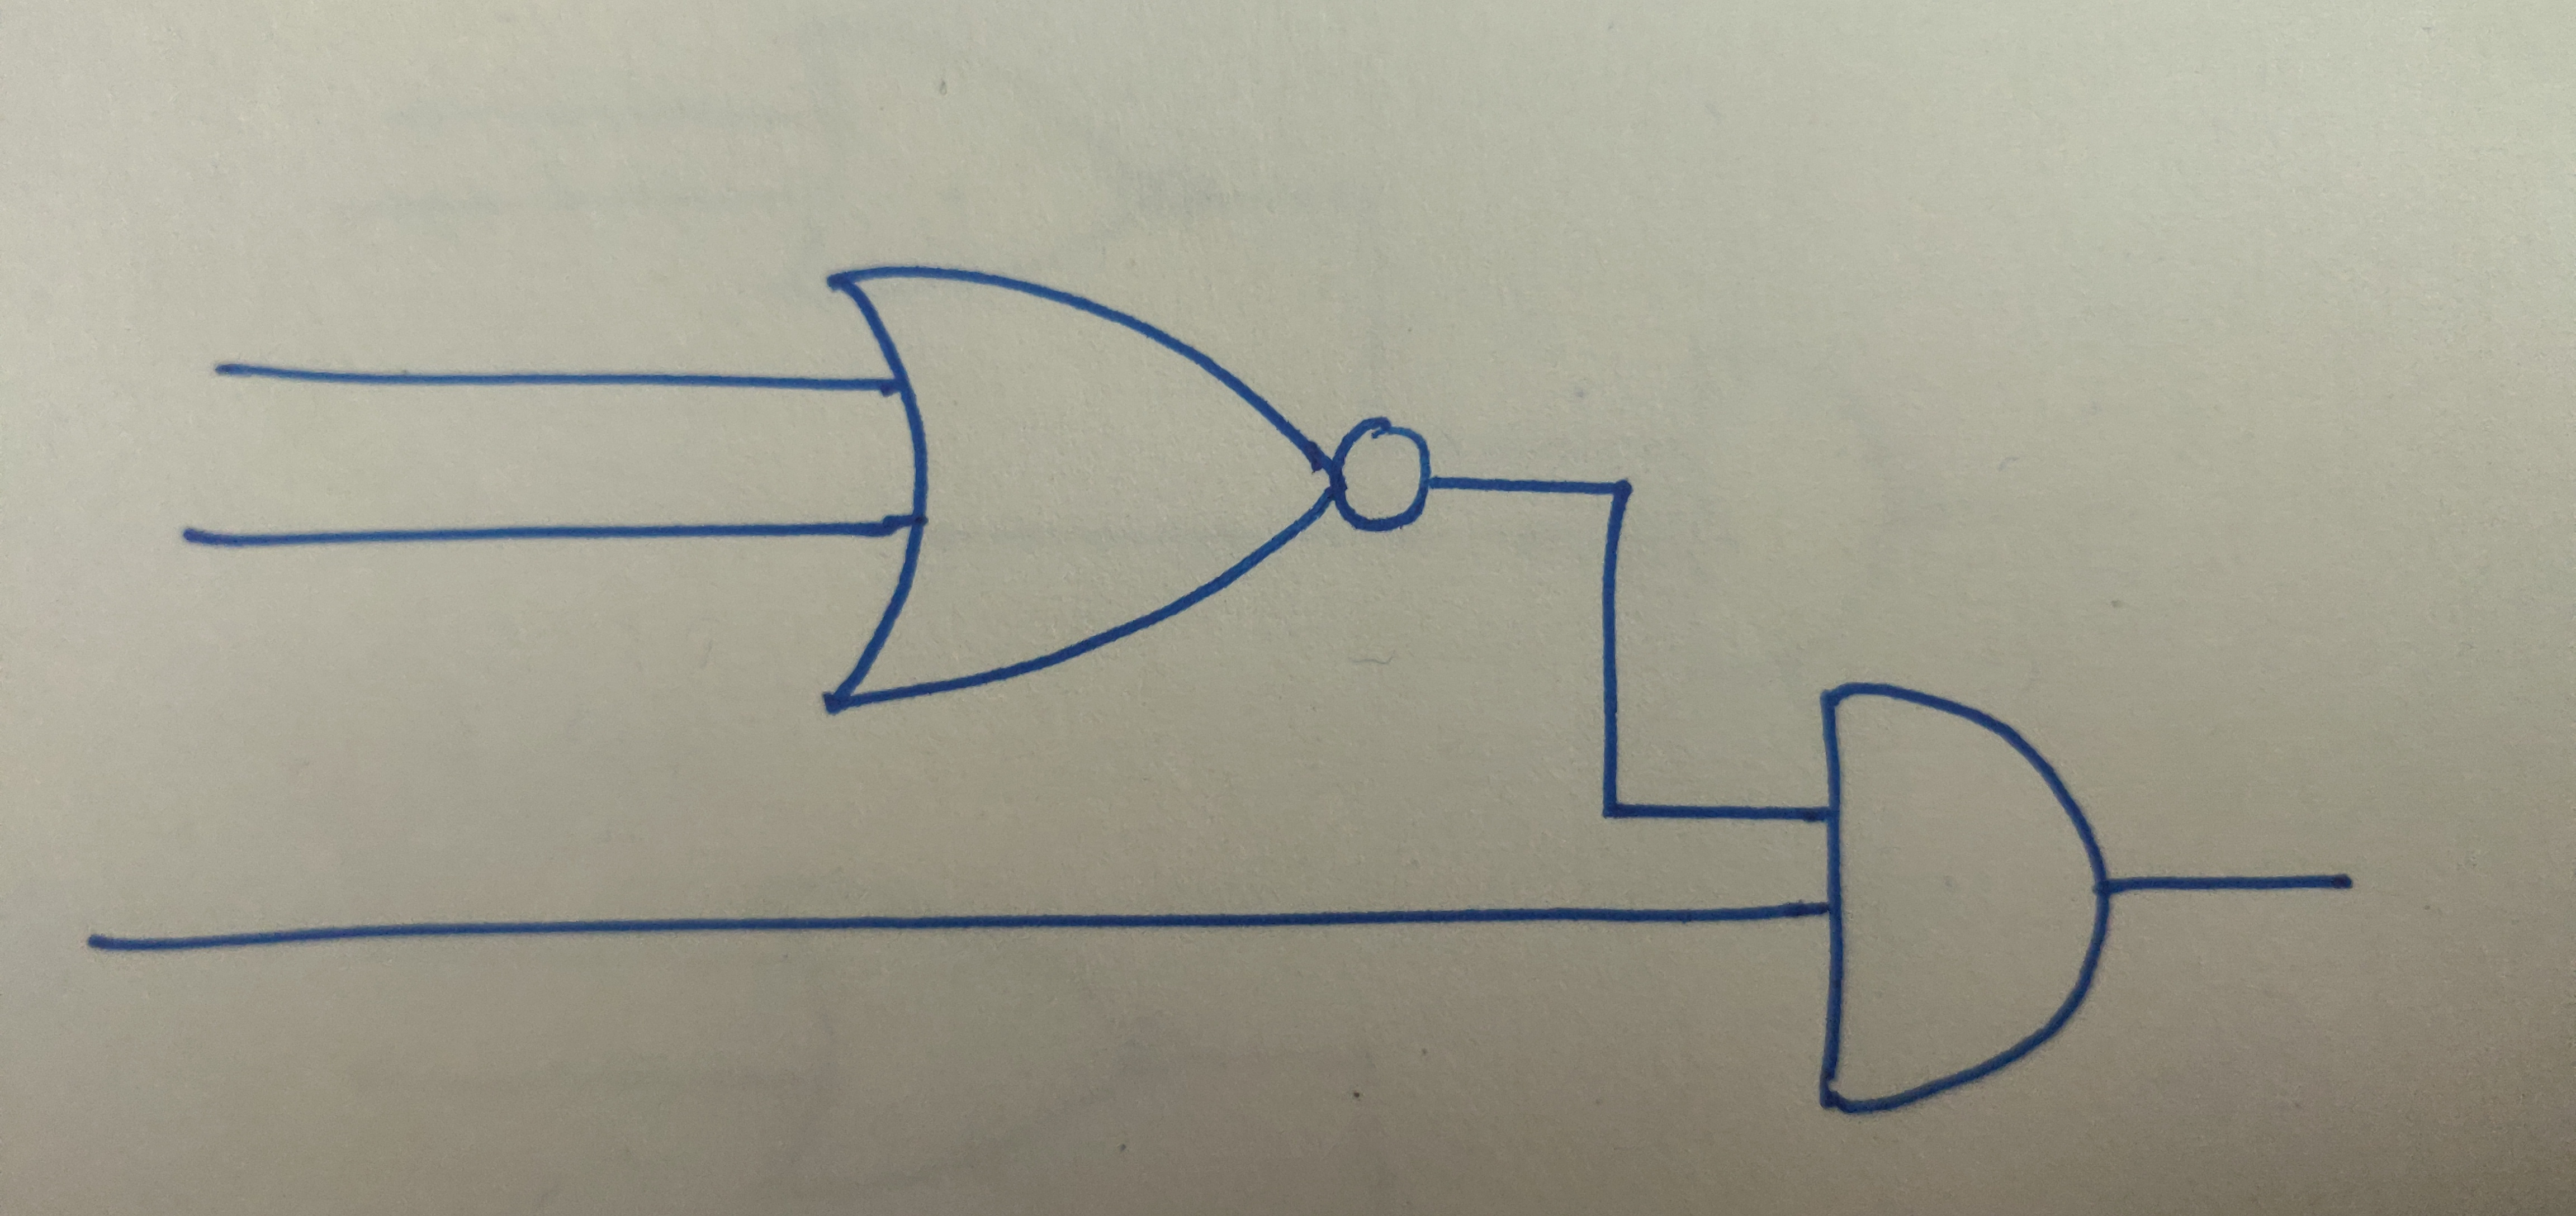and: (1814, 677, 2116, 1114)
not: (1327, 411, 1439, 542)
or: (813, 256, 1344, 723)
